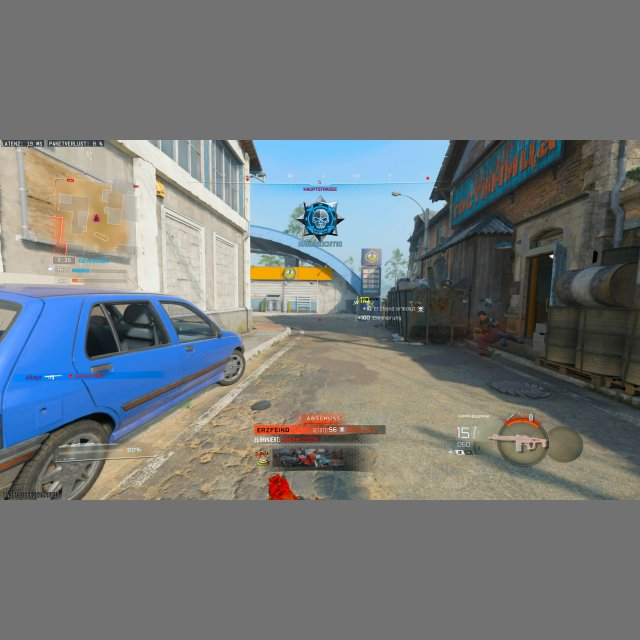head: (477, 311, 486, 321)
player: (474, 310, 497, 356)
